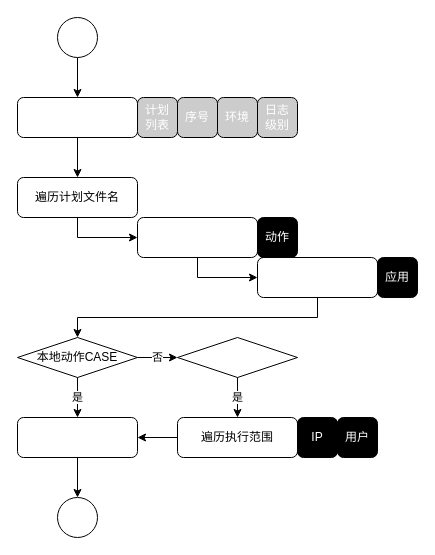
Image size: 435x555. Some labels were removed from this diagram. The centre of each missing label's shape, as x and y in pixels:
"传参执行脚本" belongs at point (77, 437).
"按行遍历计划文件" belongs at point (197, 237).
"调用入口脚本" belongs at point (77, 117).
"远程动作CASE" belongs at point (237, 357).
"遍历应用" belongs at point (317, 277).
